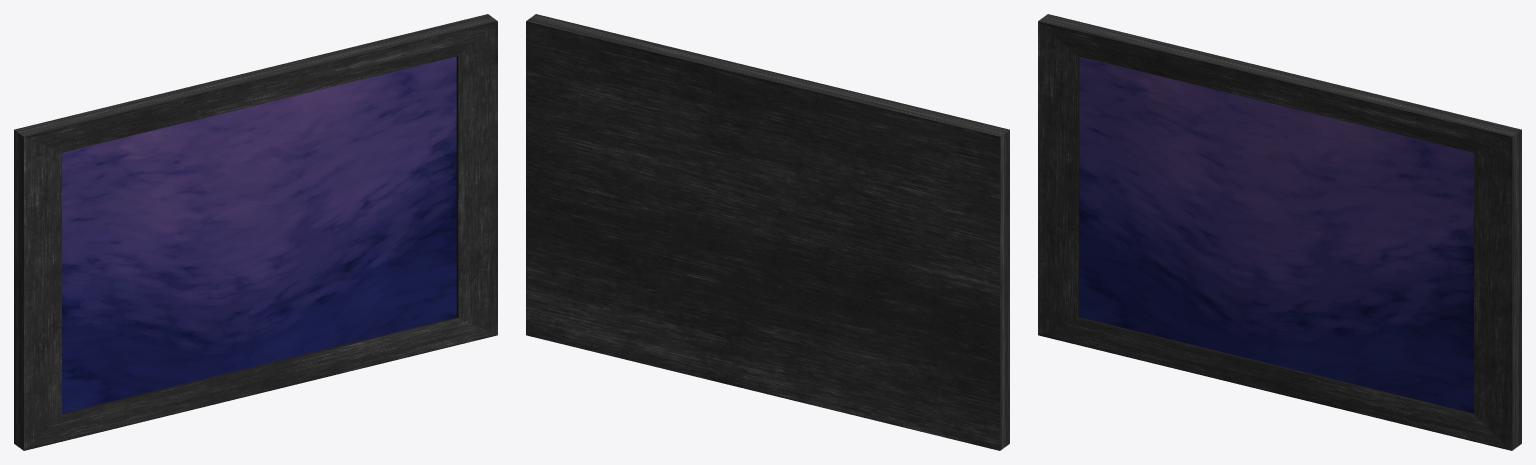
File: painting_landscape_8.fbx
The picture shows the model from 3 angles, left to right: view 1: azimuth 30°, elevation 25°; view 2: azimuth 150°, elevation 25°; view 3: azimuth 330°, elevation 25°; orthographic projection.
Visible parts, largest first — view 1: painting_Var8.004; view 2: painting_Var8.004; view 3: painting_Var8.004.
Part boxes in pixels (<box>): painting_Var8.004: <box>14,14,497,450</box>; painting_Var8.004: <box>526,14,1009,450</box>; painting_Var8.004: <box>1038,14,1521,450</box>.
Size of the model in its own units: 113 by 71.52 by 4.11.
1 material, 1 textured.
